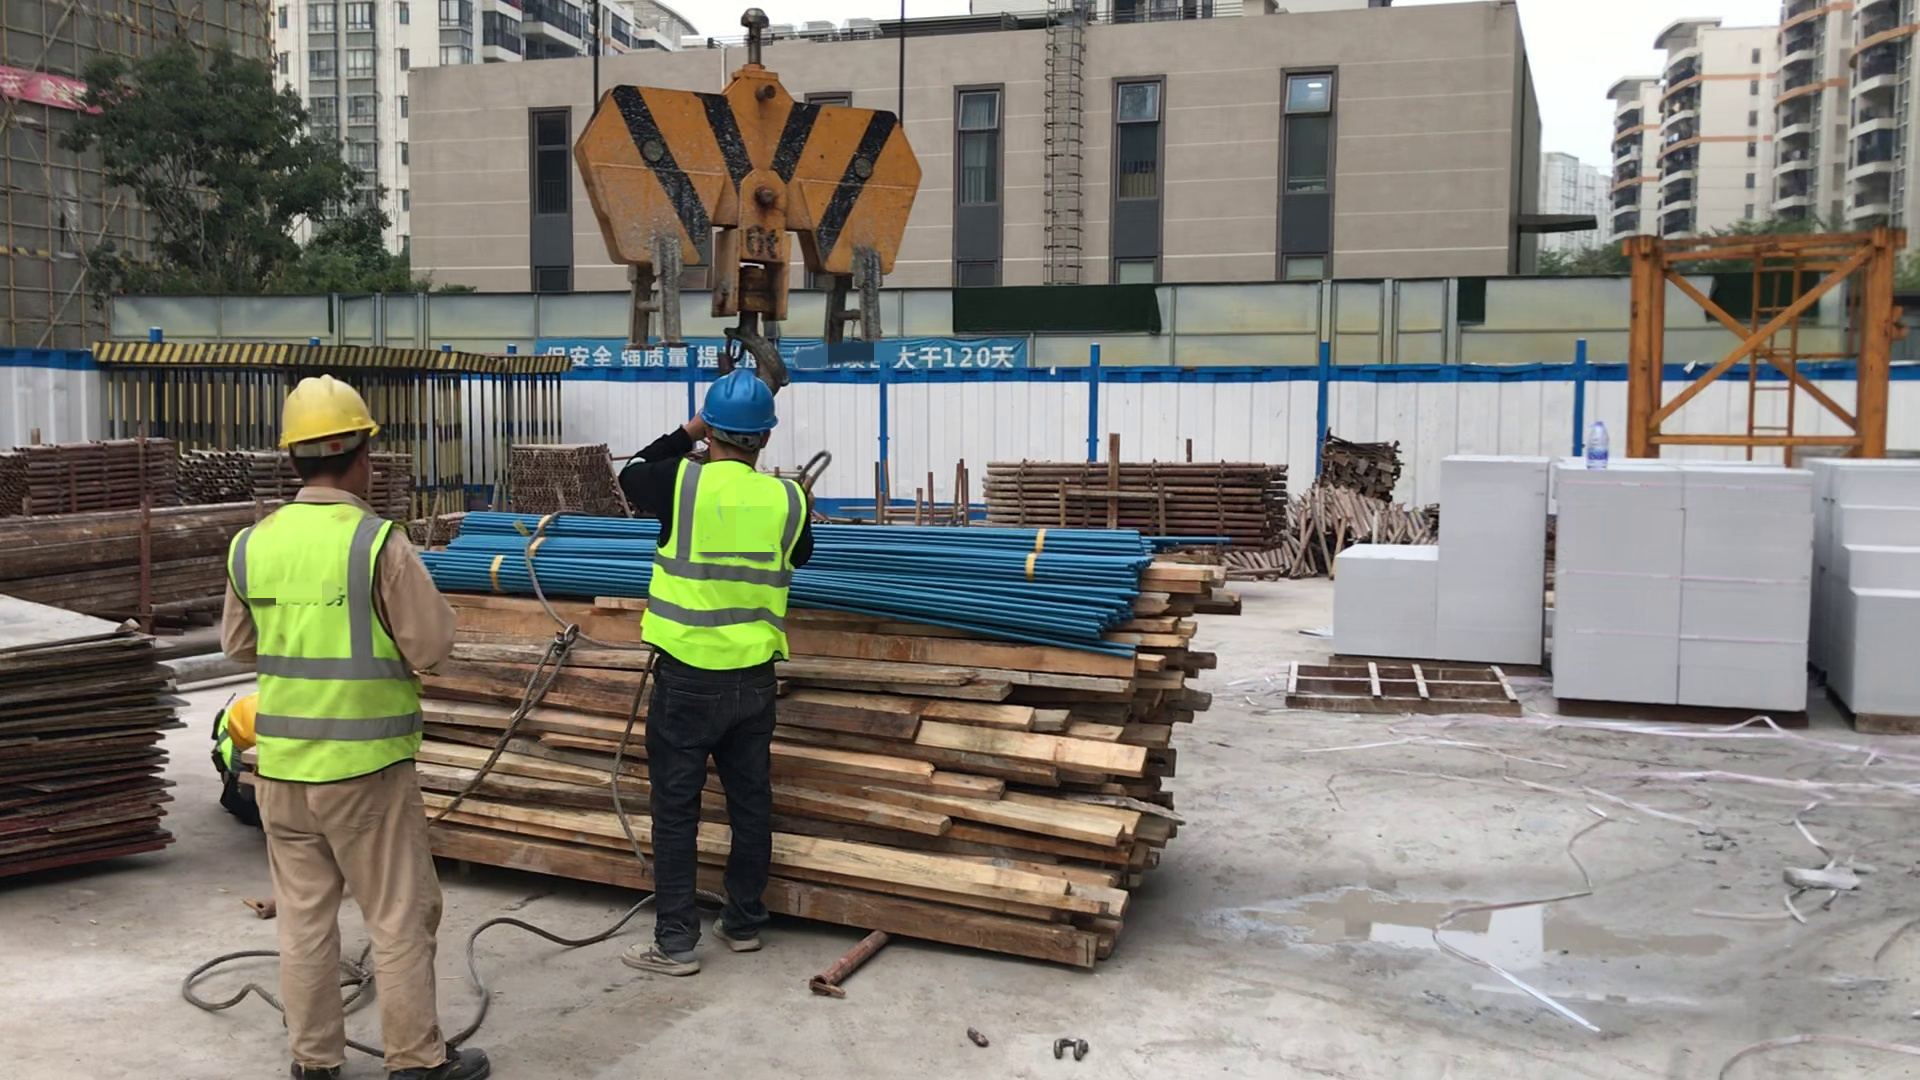board: (1, 583, 186, 885)
brick: (1551, 461, 1818, 704), (1325, 449, 1555, 660), (1815, 430, 1920, 727)
helmet: (274, 374, 380, 439), (697, 371, 778, 434)
hook: (562, 57, 925, 346)
person: (203, 367, 496, 1080), (619, 364, 817, 986)
scaffold: (973, 448, 1278, 553), (1, 409, 186, 524), (188, 448, 410, 504), (514, 441, 622, 524)
vest: (226, 493, 429, 794), (641, 437, 799, 680)
wood: (269, 574, 1241, 965)
